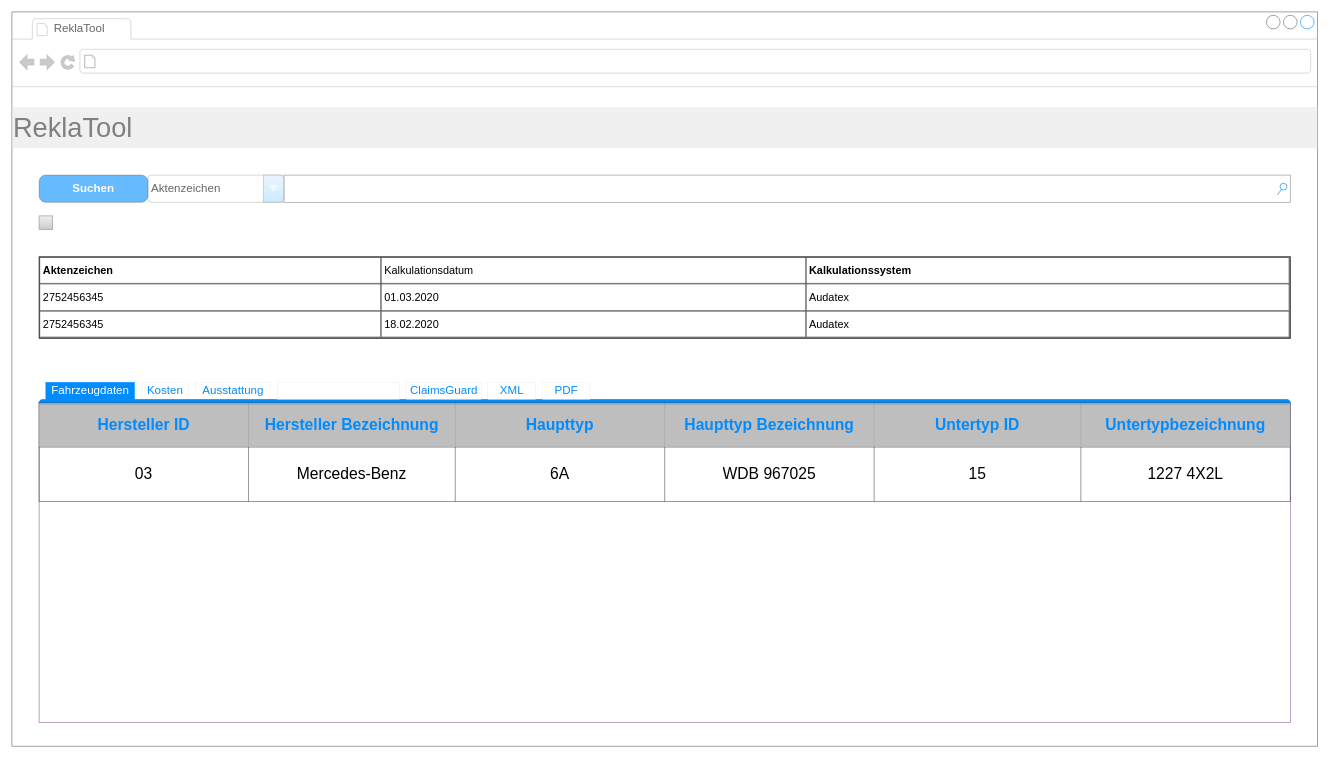
This 1329x758 diagram has some shape labels left out. Each missing label, with the centre of its shape:
"10.10.10.10:5000/reklaTool" goes at (185,61).
"Kalkulierte Positionen" goes at (338,390).
"Schnellsuche" goes at (45,222).
"Search" goes at (786,188).
